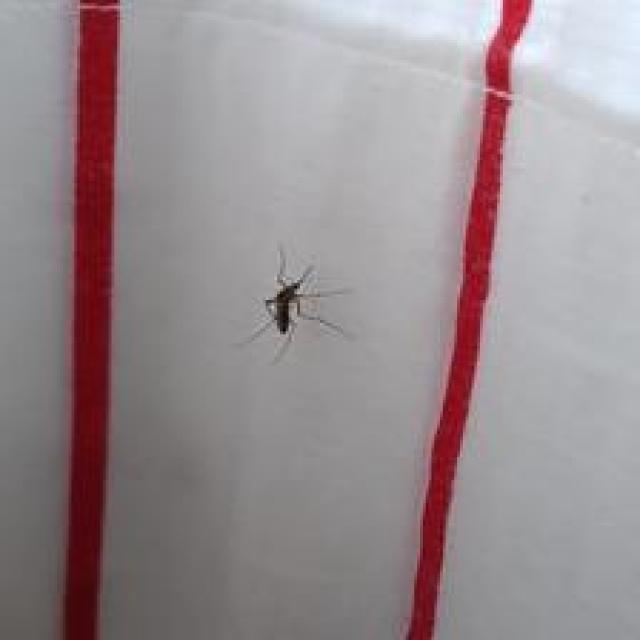Culex: (237, 244, 352, 364)
